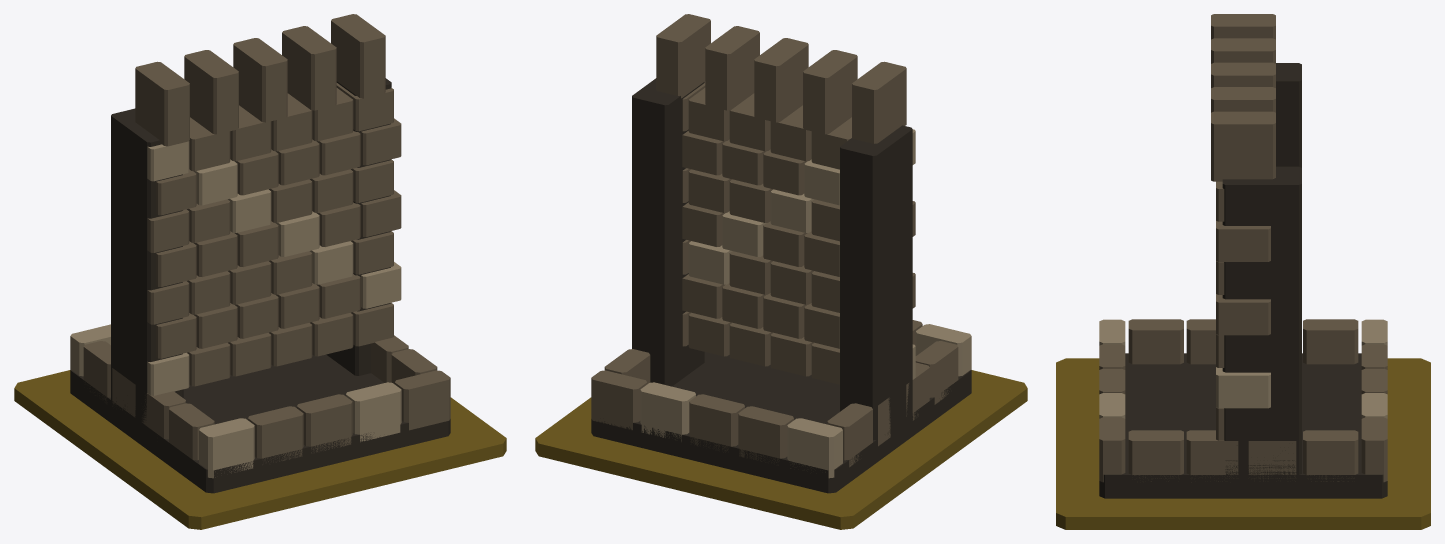
Rendered from stonewall_t4.glb.
3 renders of one model, left to right at view 1: azimuth 30°, elevation 25°; view 2: azimuth 150°, elevation 25°; view 3: azimuth 270°, elevation 25°, orthographic. The views are drawn at different scales.
Visible parts, largest first — view 1: MMR | stonewall | T04 Architecture.001, MMR | stonewall | Tier 04 Ground.001; view 2: MMR | stonewall | T04 Architecture.001, MMR | stonewall | Tier 04 Ground.001; view 3: MMR | stonewall | T04 Architecture.001, MMR | stonewall | Tier 04 Ground.001.
Boxes of the visible parts, x1,y1,x2,y2 form: MMR | stonewall | T04 Architecture.001: (70, 14, 450, 493); MMR | stonewall | Tier 04 Ground.001: (14, 370, 506, 529); MMR | stonewall | T04 Architecture.001: (591, 14, 971, 493); MMR | stonewall | Tier 04 Ground.001: (535, 370, 1027, 529); MMR | stonewall | T04 Architecture.001: (1099, 14, 1387, 498); MMR | stonewall | Tier 04 Ground.001: (1056, 358, 1430, 529).
Size of the model in its own units: 1.3 by 1.46 by 1.3.
1 material, 1 textured.
